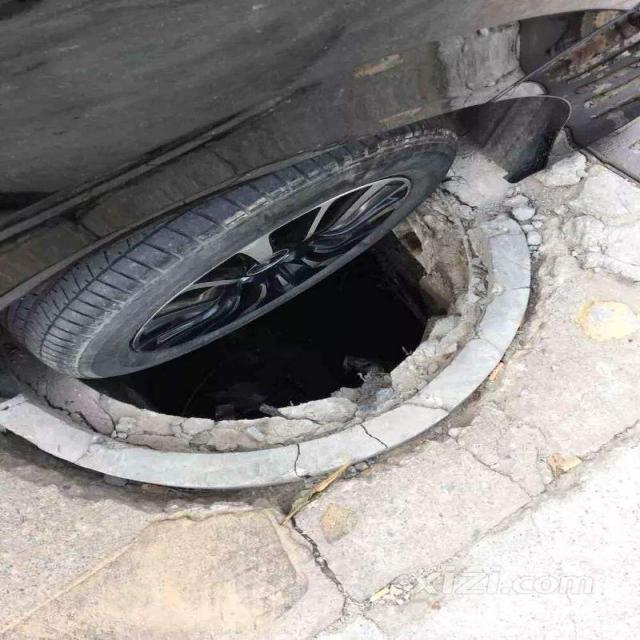manhole-cover: (47, 173, 486, 453)
